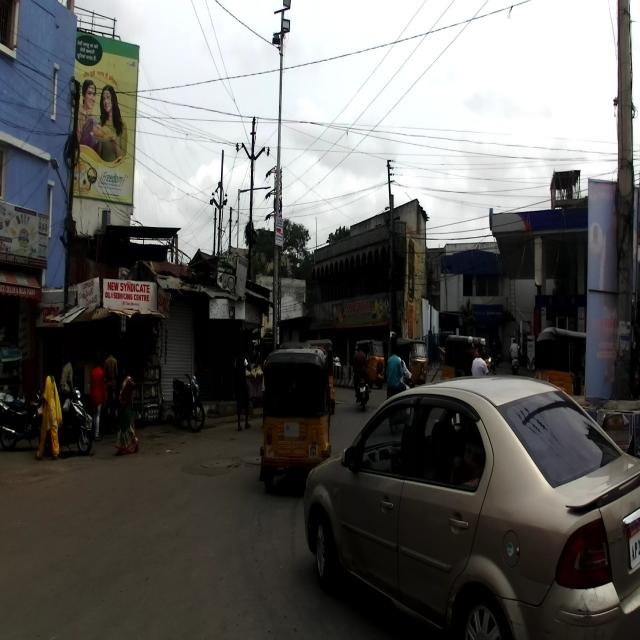autorickshaw: (258, 346, 332, 495), (533, 326, 587, 393)
car: (303, 373, 639, 639)
motorcycle: (0, 386, 48, 449), (171, 369, 205, 435)
scooter: (51, 380, 93, 456)
